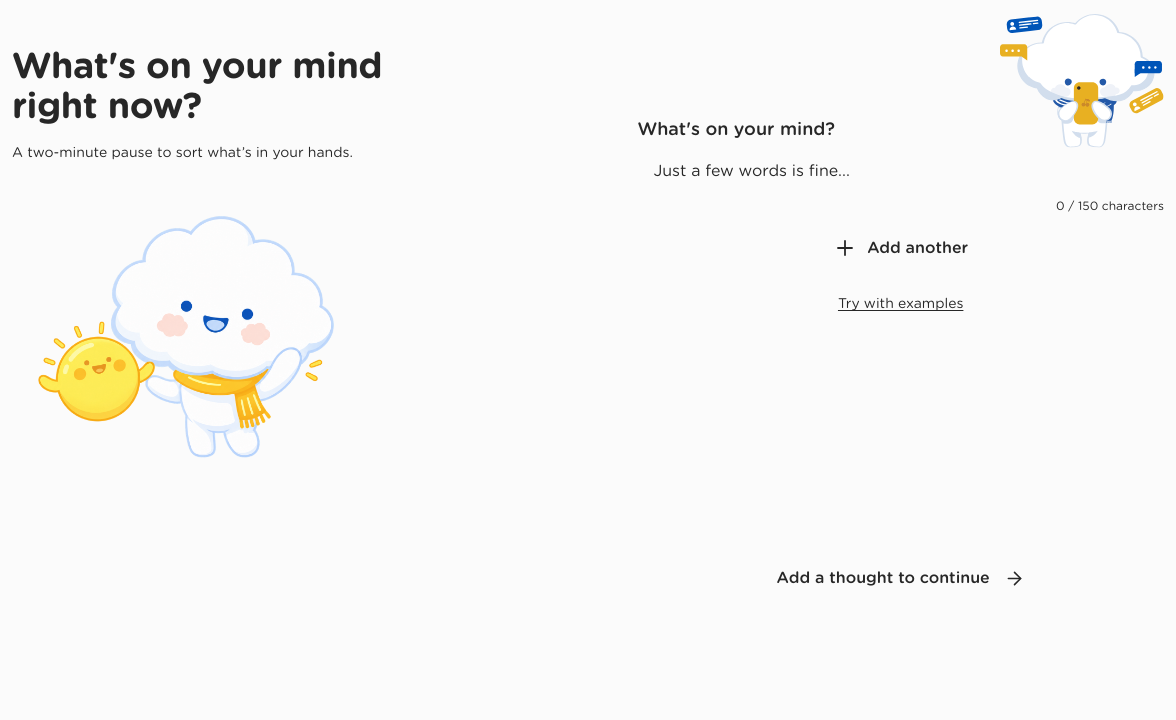
SetupScreen › adds a trimmed card with Enter and keeps the field ready for another
The width and height of the screenshot is (1176, 720).
Expected: the button "Add another" is disabled, [637, 226, 1164, 270]
Expected: the button "Add a thought to continue" is disabled, [637, 550, 1164, 606]
Type "  Tomorrow's meeting  " into the field labelled "What's on your mind?" at (901, 172), box [637, 151, 1164, 192]
Then press Enter
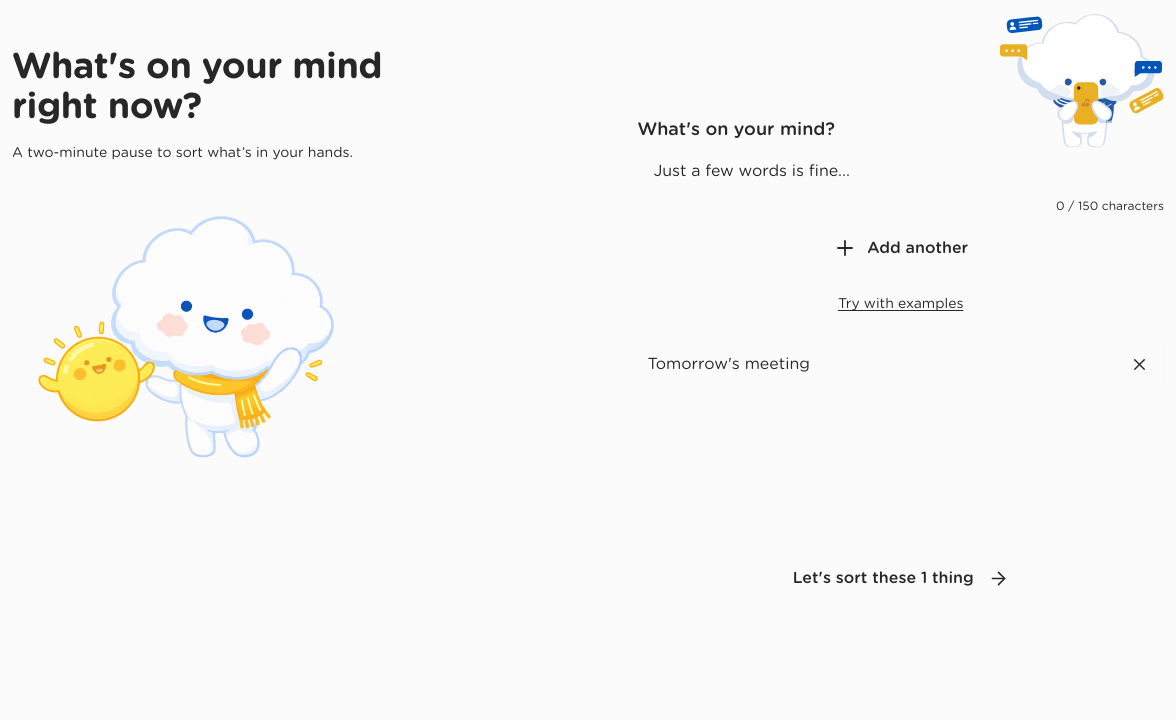
Now the text "Tomorrow's meeting" is shown, box [647, 353, 810, 375]
Now the button "Let's sort these 1 thing" is enabled, box [637, 550, 1164, 606]
